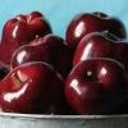apple: (1, 61, 64, 113)
